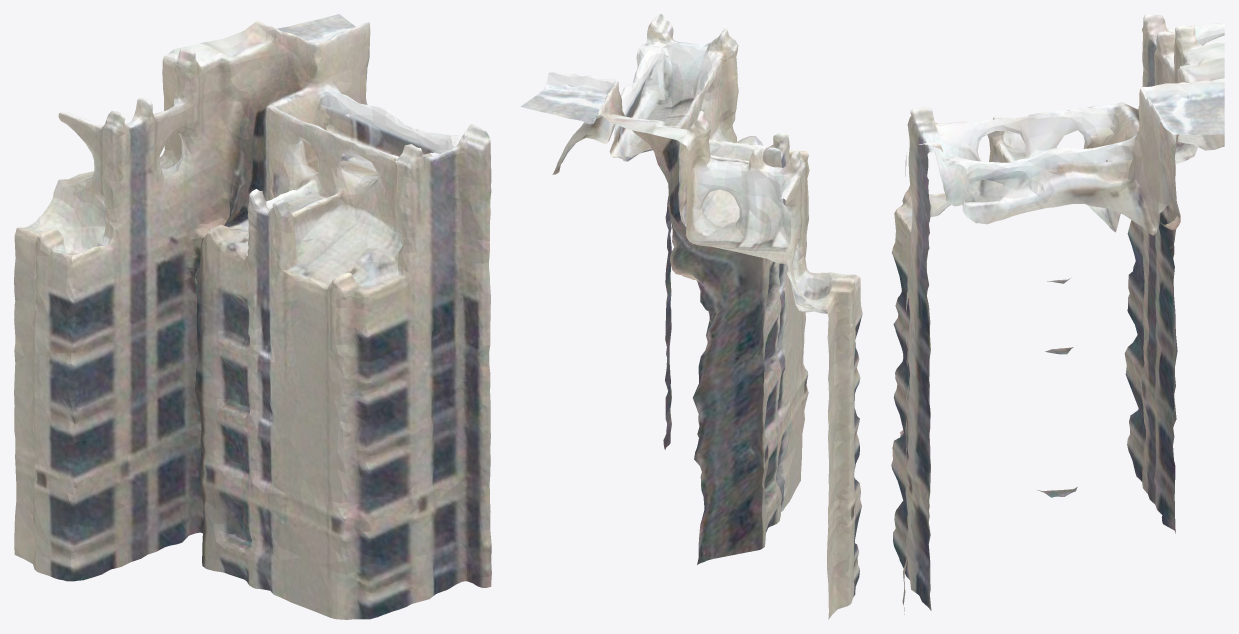
File: Tile_+001_+005_L22_00031200.glb
3 renders of one model, left to right at view 1: azimuth 30°, elevation 25°; view 2: azimuth 150°, elevation 25°; view 3: azimuth 270°, elevation 25°, orthographic. The views are drawn at different scales.
Parts seen in each view (by area): view 1: rtc; view 2: rtc; view 3: rtc.
Boxes of the visible parts, left/top/right/bottom form: rtc: left=14, top=14, right=491, bottom=619; rtc: left=521, top=14, right=862, bottom=619; rtc: left=891, top=14, right=1224, bottom=614.
Bounding box in the file's own units: 11.23 × 15.81 × 9.42.
Materials: 1 (1 with a texture image).
